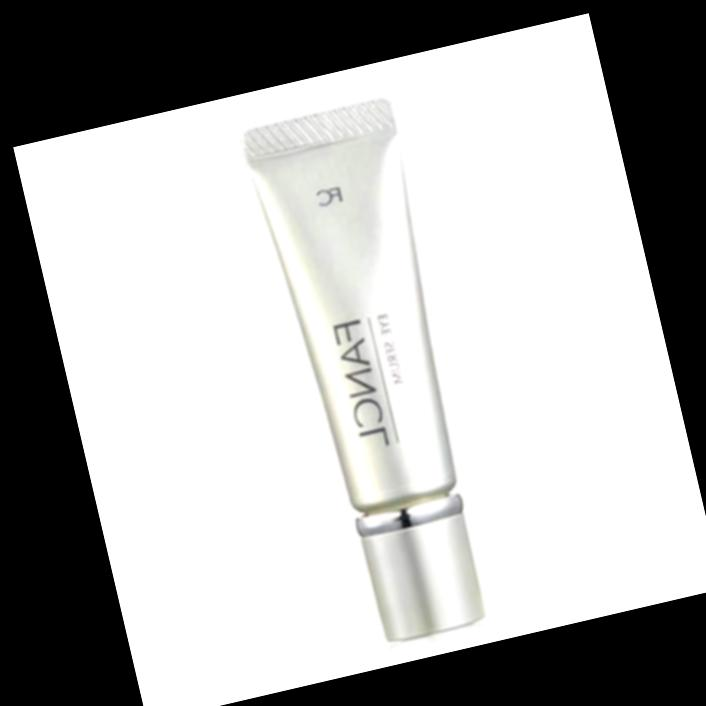cosmetic: (248, 93, 510, 650)
